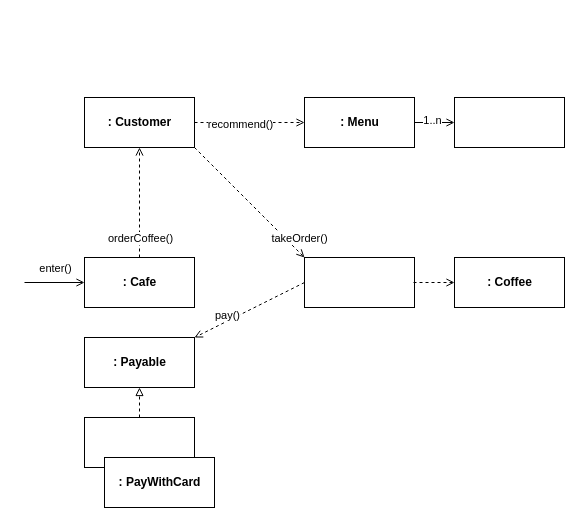
Some shapes in this 582 by 525 pixel diagram are drawn without their labels. The shapes that lost their labels are listed below. From the top down, each one's box as (x1, y1, x2, y2) in pixels, then its label:
(454, 96, 564, 148): : MenuItem
(304, 256, 414, 308): : Barista
(84, 416, 194, 468): : PayWithCash
